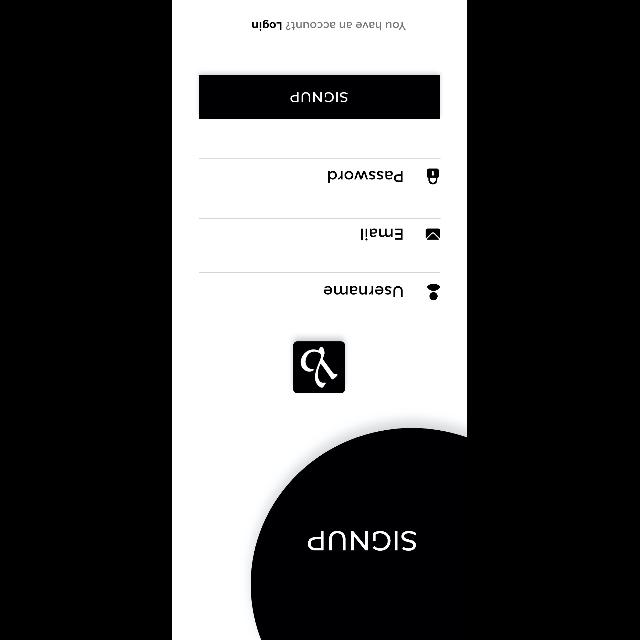icon: (428, 284, 440, 300), (428, 168, 439, 184), (427, 228, 441, 240)
image: (294, 341, 346, 393)
input: (199, 272, 441, 300), (199, 158, 441, 184), (199, 218, 441, 240)
text: (308, 531, 418, 551), (252, 20, 406, 30), (328, 171, 404, 183), (324, 286, 404, 296), (362, 228, 402, 240)
textbutton: (200, 75, 440, 119)
